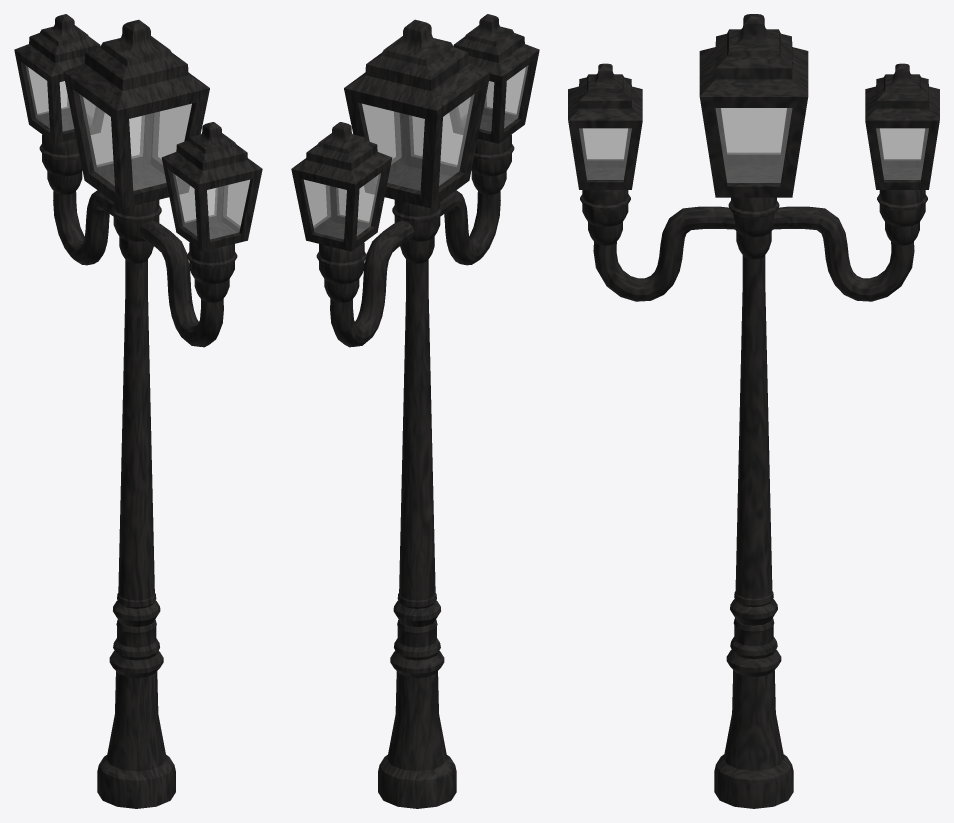
The model's file is model_iluminacaodupla_01.fbx.
The picture shows the model from 3 angles, left to right: view 1: azimuth 30°, elevation 25°; view 2: azimuth 150°, elevation 25°; view 3: azimuth 270°, elevation 25°; orthographic projection.
Parts seen in each view (by area): view 1: poste duplo; view 2: poste duplo; view 3: poste duplo.
Part boxes in pixels (<box>): poste duplo: <box>14,14,262,808</box>; poste duplo: <box>291,14,539,808</box>; poste duplo: <box>568,14,939,808</box>.
Bounding box in the file's own units: 0.6497 × 5.13 × 2.22.
2 materials, 1 textured.
